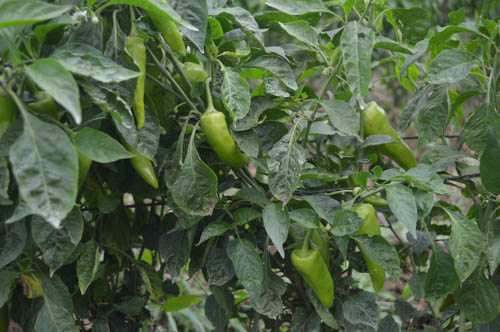ChiliPepper: (363, 102, 417, 180), (349, 203, 385, 290), (121, 35, 150, 130), (197, 113, 247, 168), (119, 120, 158, 187), (292, 251, 335, 308)
